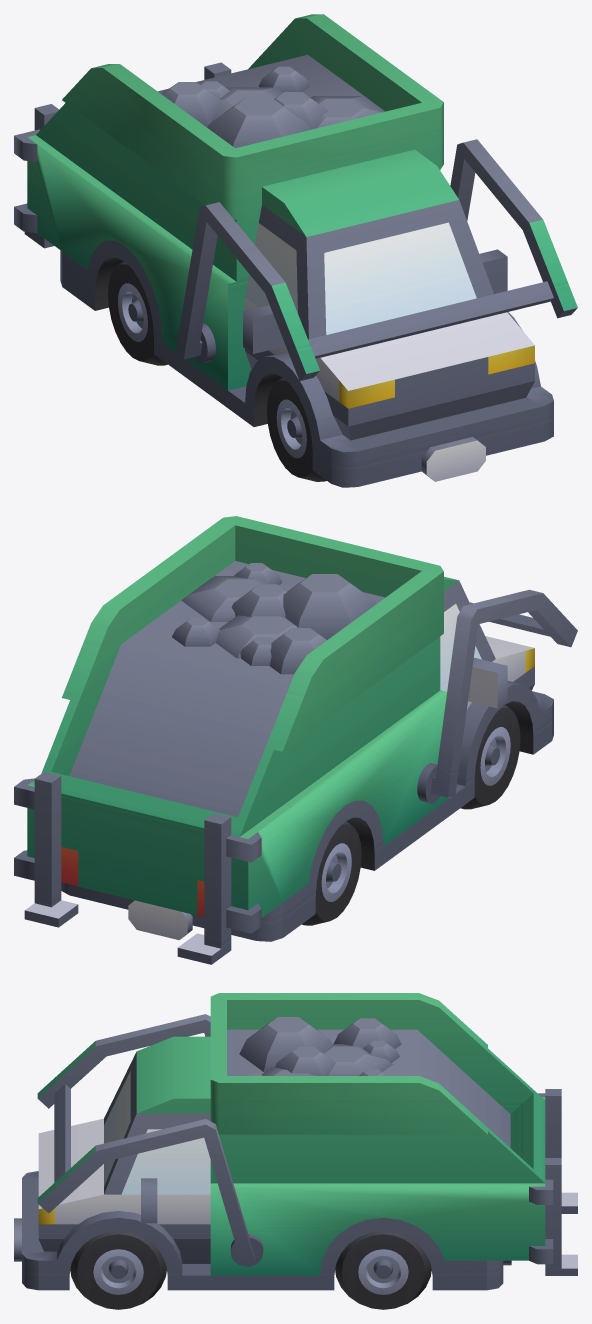
The model's file is garbage-truck-transformed.glb.
3 renders of one model, top to bottom at view 1: azimuth 30°, elevation 25°; view 2: azimuth 150°, elevation 25°; view 3: azimuth 270°, elevation 25°, orthographic. The views are drawn at different scales.
Parts seen in each view (by area): view 1: arm; view 2: arm; view 3: arm.
Part boxes in pixels (<box>): arm: <box>14,14,577,487</box>; arm: <box>14,516,577,964</box>; arm: <box>14,993,577,1309</box>.
Size of the model in its own units: 1.6 by 1.6 by 3.45.
Materials: 1 (1 with a texture image).
